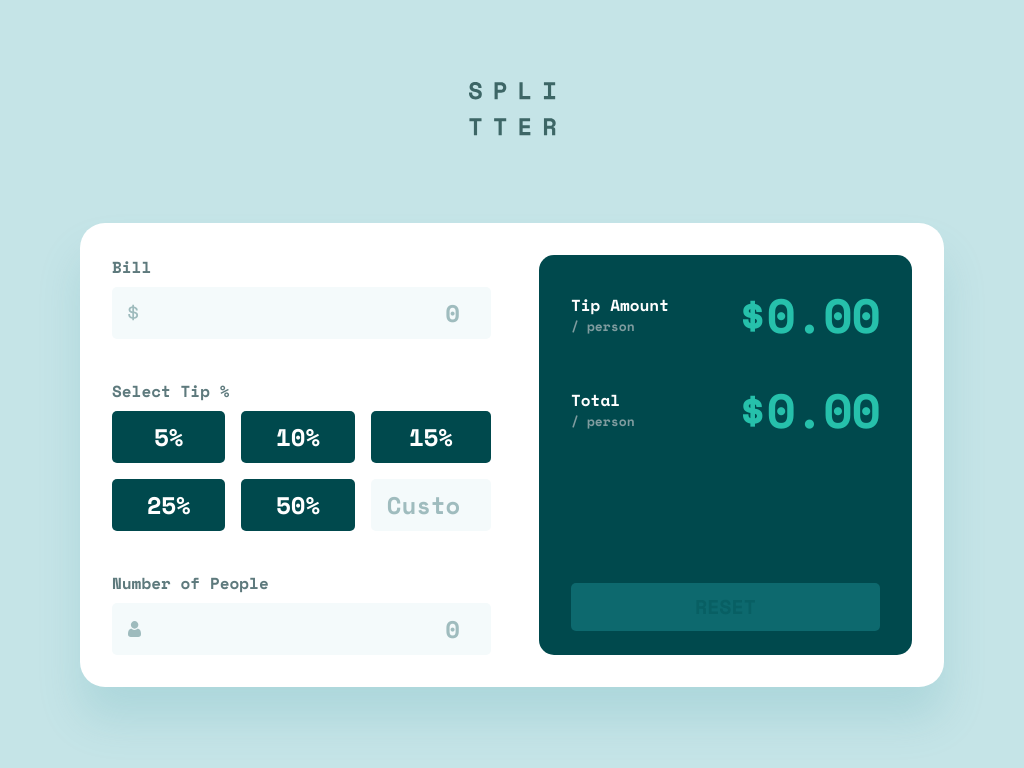
Test: Whole App › happy path - a successful calculation
// set the value of the input elements
Type "142.55" into the number field with id "input-bill-subtotal" at (302, 312), box [112,286,491,338]
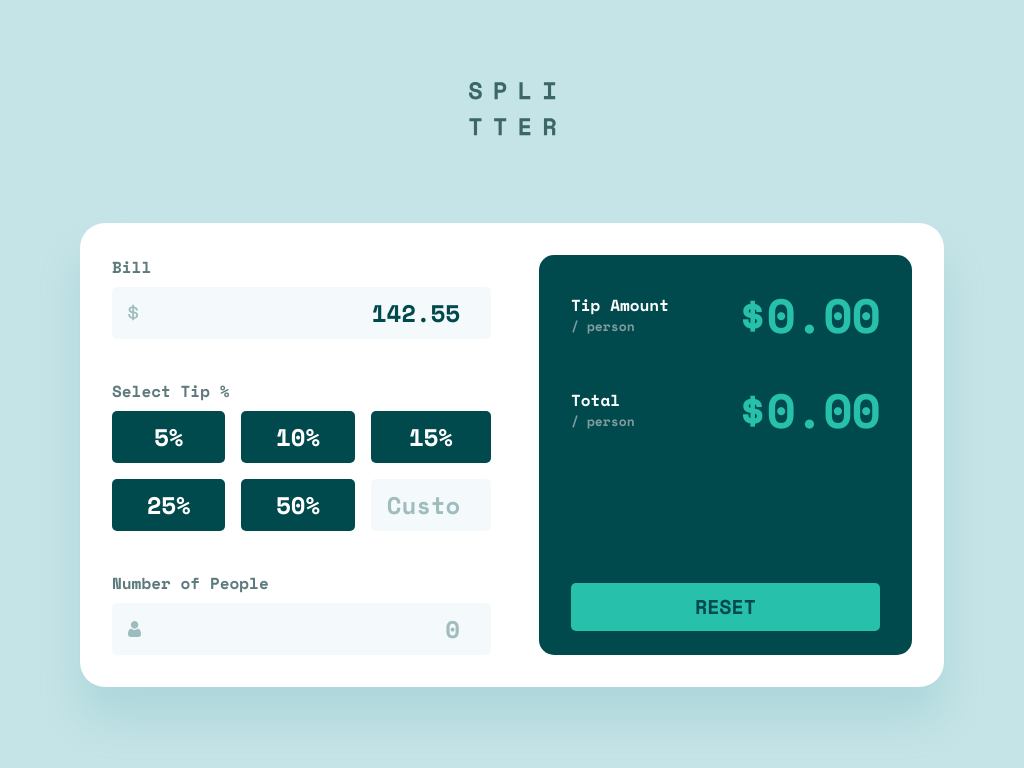
Click the 1st radio button labelled "15%" at (431, 436), box [371,410,491,462]
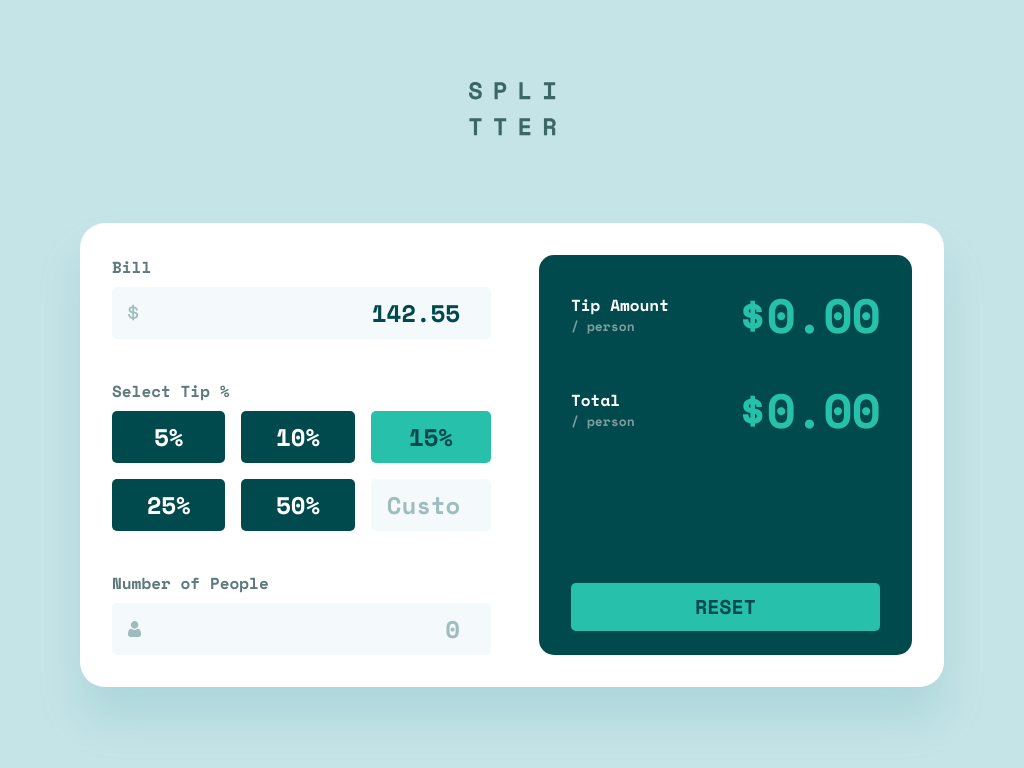
Type "5" into the number field with id "input-number-of-people" at (302, 628), box [112,602,491,654]
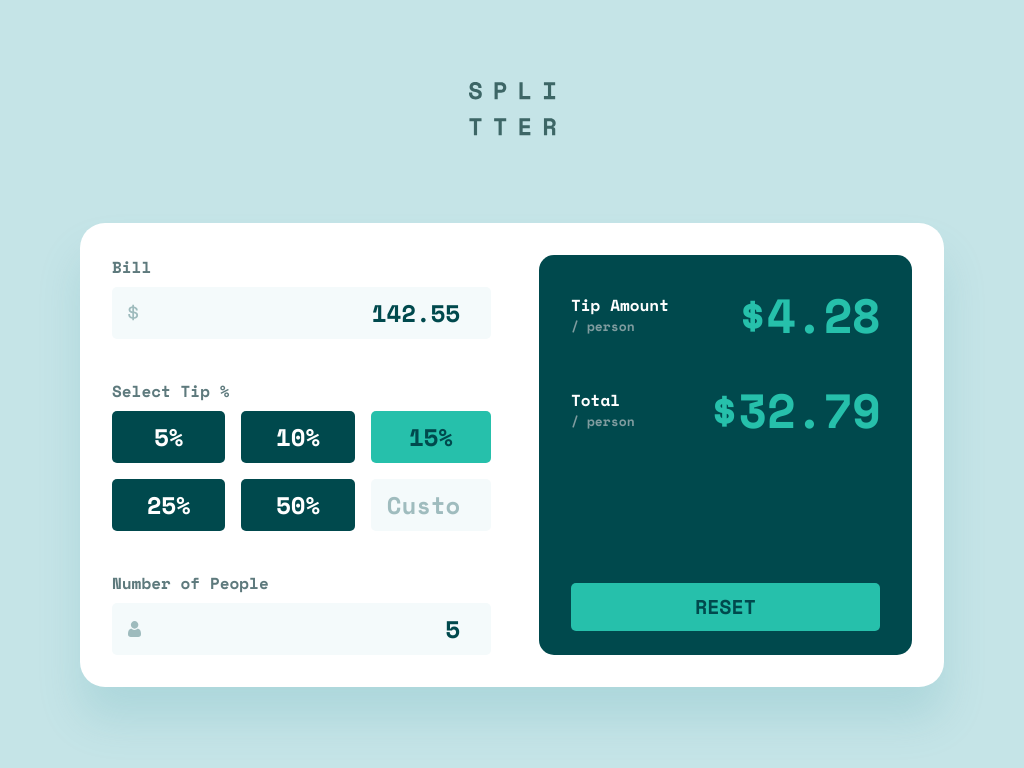
expect the reset button is enabled: met, box [571,582,880,630]
expect the text with id "result-tip-amount" reads "$4.28": met, box [738,278,880,350]
expect the text with id "result-total" reads "$32.79": met, box [710,374,880,444]
